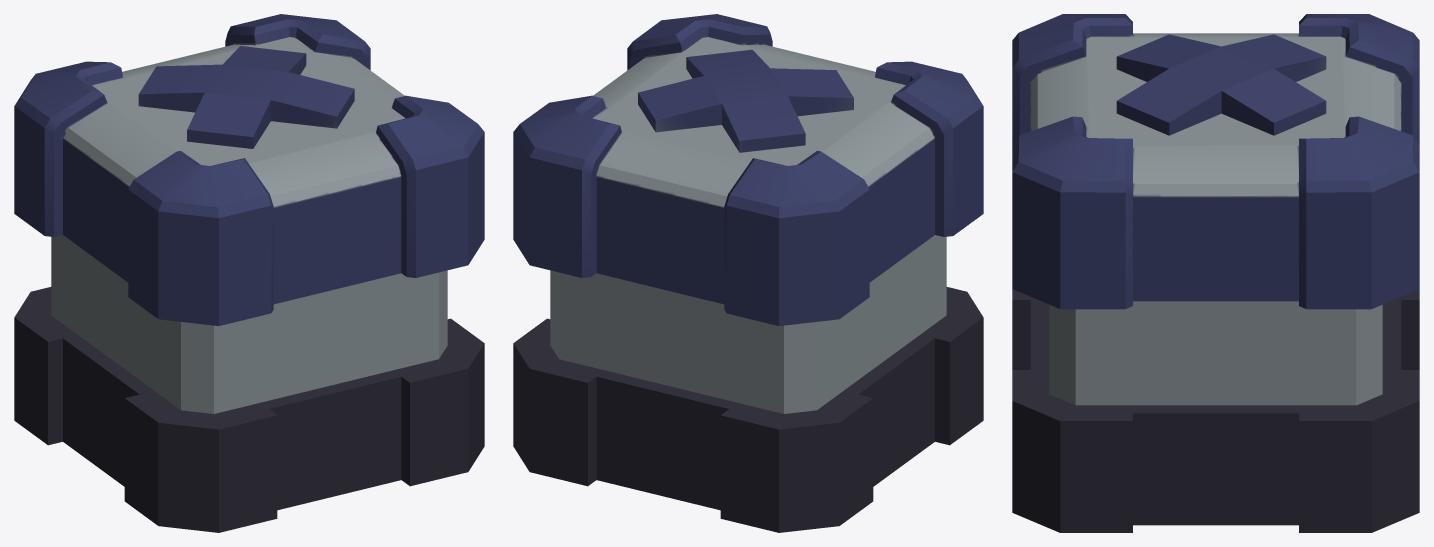
The model's file is Box_Decor.FBX.
The picture shows the model from 3 angles, left to right: view 1: azimuth 30°, elevation 25°; view 2: azimuth 150°, elevation 25°; view 3: azimuth 270°, elevation 25°; orthographic projection. The views are drawn at different scales.
Visible parts, largest first — view 1: Box_Decor_1; view 2: Box_Decor_1; view 3: Box_Decor_1.
Part boxes in pixels (bbox=[...]): Box_Decor_1: bbox=[14, 14, 484, 532]; Box_Decor_1: bbox=[513, 14, 983, 532]; Box_Decor_1: bbox=[1012, 14, 1419, 532].
Bounding box in the file's own units: 110 × 113 × 110.
